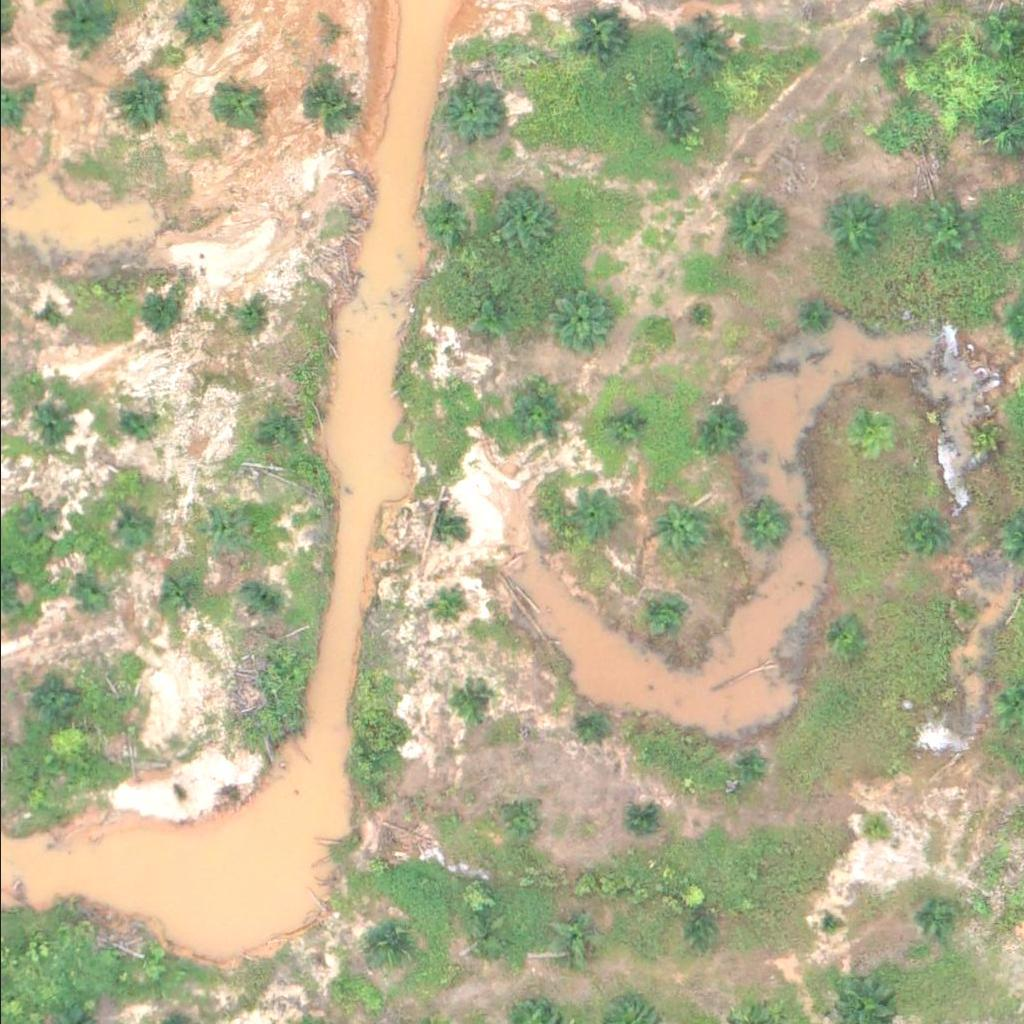Kelapa_Sawit: (820, 189, 896, 264), (440, 82, 503, 144), (722, 194, 784, 257), (555, 286, 617, 349), (495, 192, 558, 254), (873, 8, 935, 70), (504, 387, 566, 449), (208, 77, 259, 127), (302, 77, 353, 127), (837, 405, 888, 455), (736, 500, 787, 550), (550, 915, 601, 965), (965, 418, 1016, 468), (113, 80, 163, 130), (653, 90, 703, 140), (673, 18, 723, 68), (915, 205, 965, 255), (698, 398, 748, 448), (653, 505, 703, 555), (567, 491, 617, 541), (24, 677, 74, 727), (424, 198, 474, 248), (461, 286, 511, 336), (678, 905, 716, 943), (797, 299, 835, 337), (853, 808, 891, 846), (608, 410, 646, 448), (233, 299, 271, 337), (119, 411, 157, 449), (77, 579, 115, 617), (164, 579, 202, 617), (239, 578, 277, 616), (641, 598, 679, 635), (624, 805, 661, 843), (448, 681, 486, 718), (466, 922, 503, 960), (876, 111, 914, 148), (914, 892, 952, 929), (953, 589, 991, 626), (683, 300, 721, 337), (424, 585, 462, 622), (139, 289, 176, 327), (23, 298, 60, 336), (36, 407, 73, 445), (239, 422, 277, 459), (202, 507, 240, 544), (110, 512, 148, 549), (14, 502, 52, 539), (904, 515, 941, 552), (368, 923, 405, 960), (576, 703, 613, 740), (498, 800, 535, 837), (831, 620, 868, 657), (733, 751, 770, 788), (430, 508, 456, 533), (817, 911, 842, 936)
